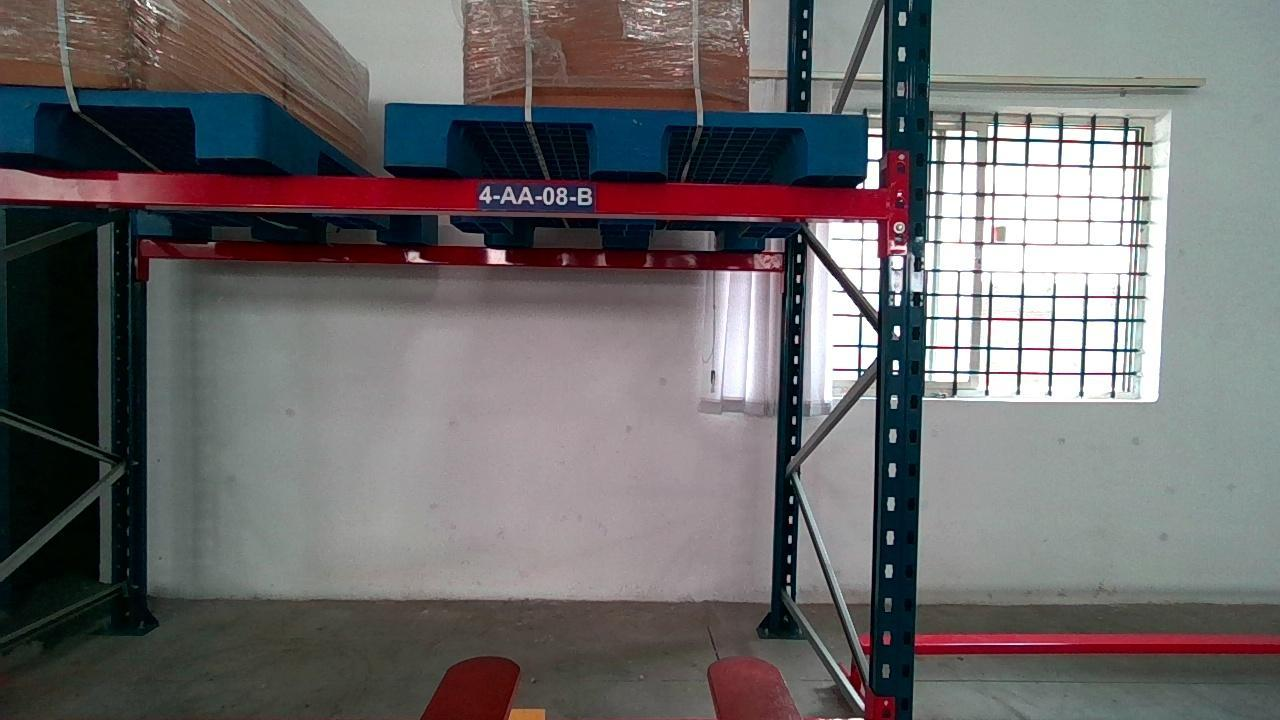h_rack: (3, 169, 889, 218)
small_pallet: (383, 101, 869, 173), (1, 88, 261, 156)
